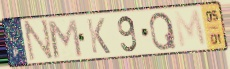9: (117, 15, 138, 53)
K: (85, 16, 112, 55)
M: (45, 17, 85, 60), (172, 8, 208, 50)
N: (23, 18, 55, 64)
Q: (148, 10, 179, 52)
